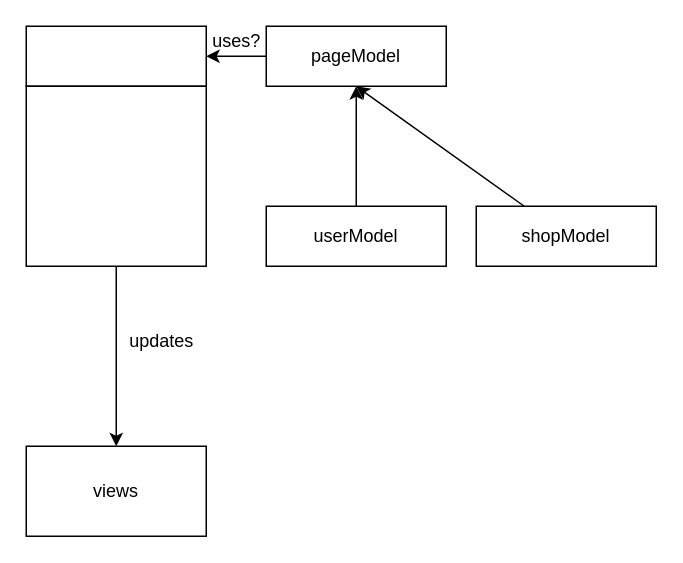
Some shapes in this 683 by 563 pixel diagram are drawn without their labels. Here are the shapes that lost their labels. From the top down, the box of each, then its label:
(25, 25, 206, 86): pageController
(25, 85, 206, 266): handleRequest() getRequest() ProcessRequest() showResponsePage()
